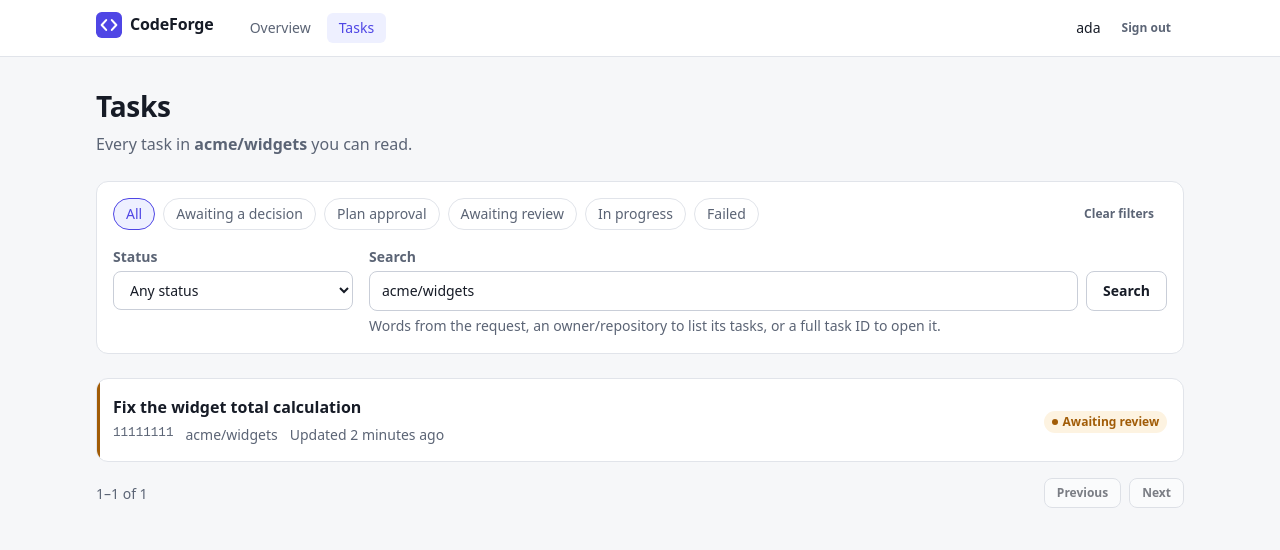
Test: task list › filters by groups of statuses and clears every filter
Check: the list is shown, box [96, 378, 1184, 462]
Click the button "Awaiting a decision". click: (240,214)
box: [163, 198, 316, 230]
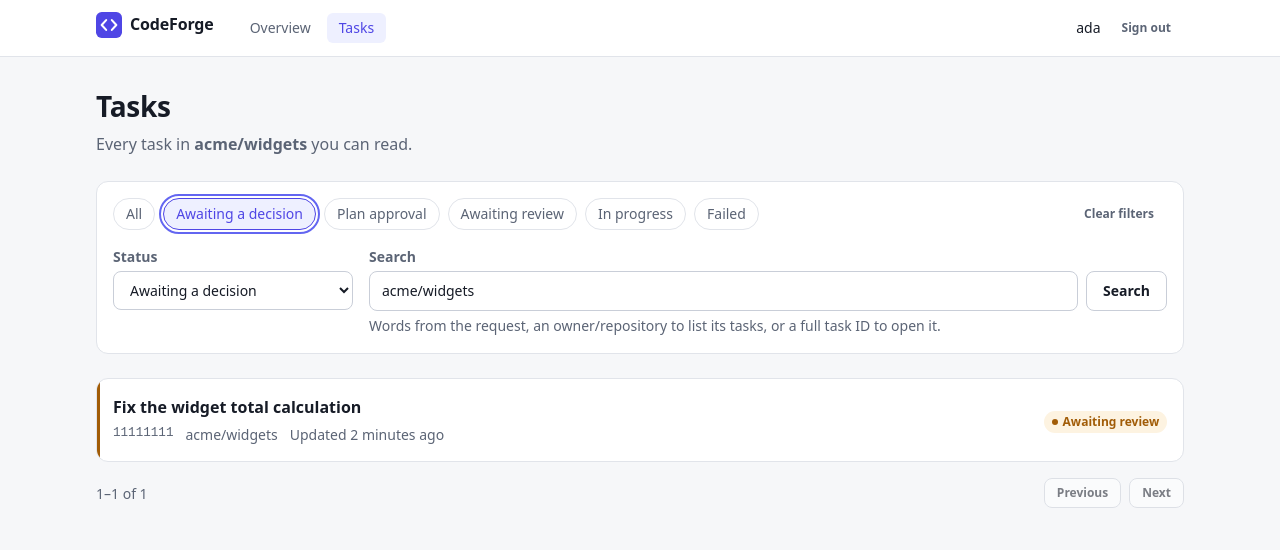
Check: the dropdown labelled "Status" shows "Awaiting a decision", box [113, 272, 353, 310]
Click the button "In progress". click: (636,214)
box: [585, 198, 686, 230]
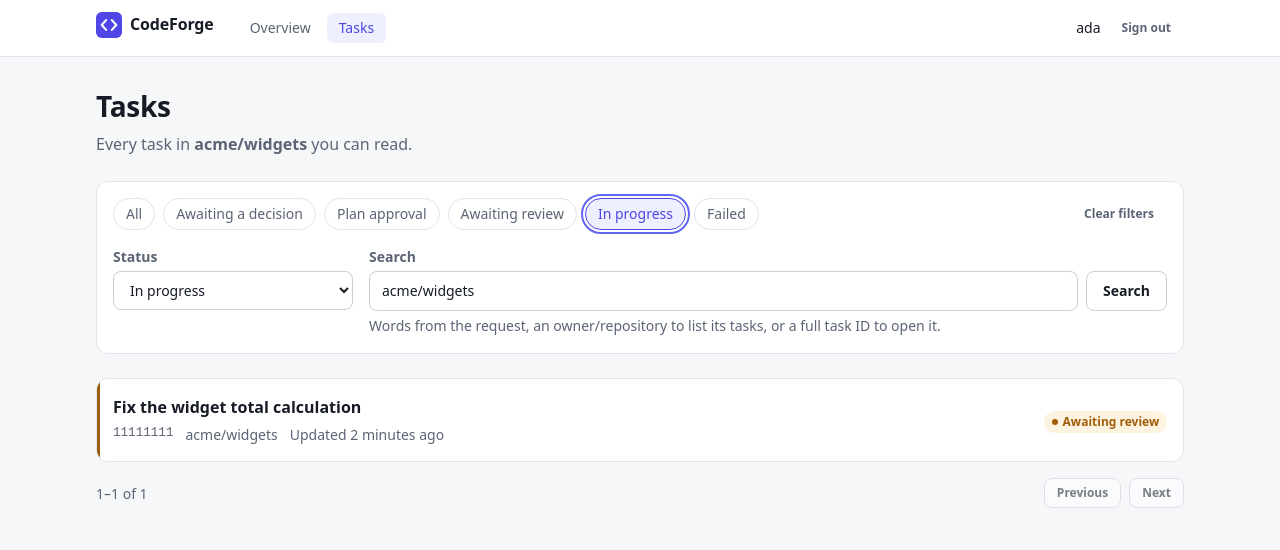
# Results are showing, and the filters can still be cleared in one step.
Click the button "Clear filters". click: (1119,214)
box: [1071, 198, 1167, 230]
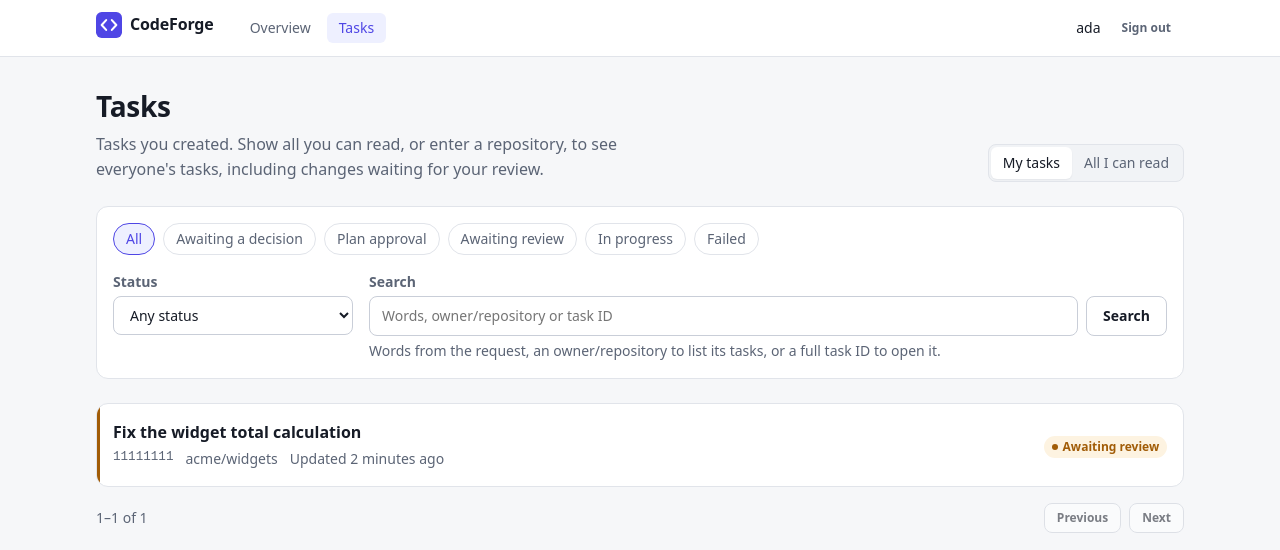
Check: the button "Clear filters" is gone
